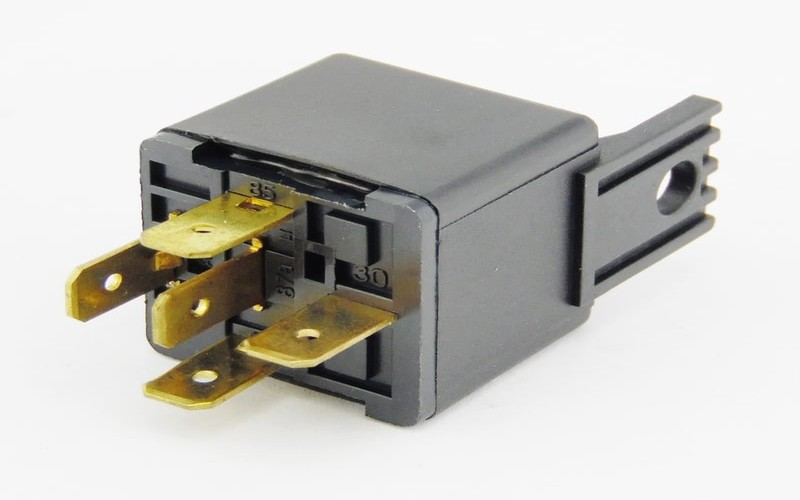Switches: (44, 17, 722, 438)
